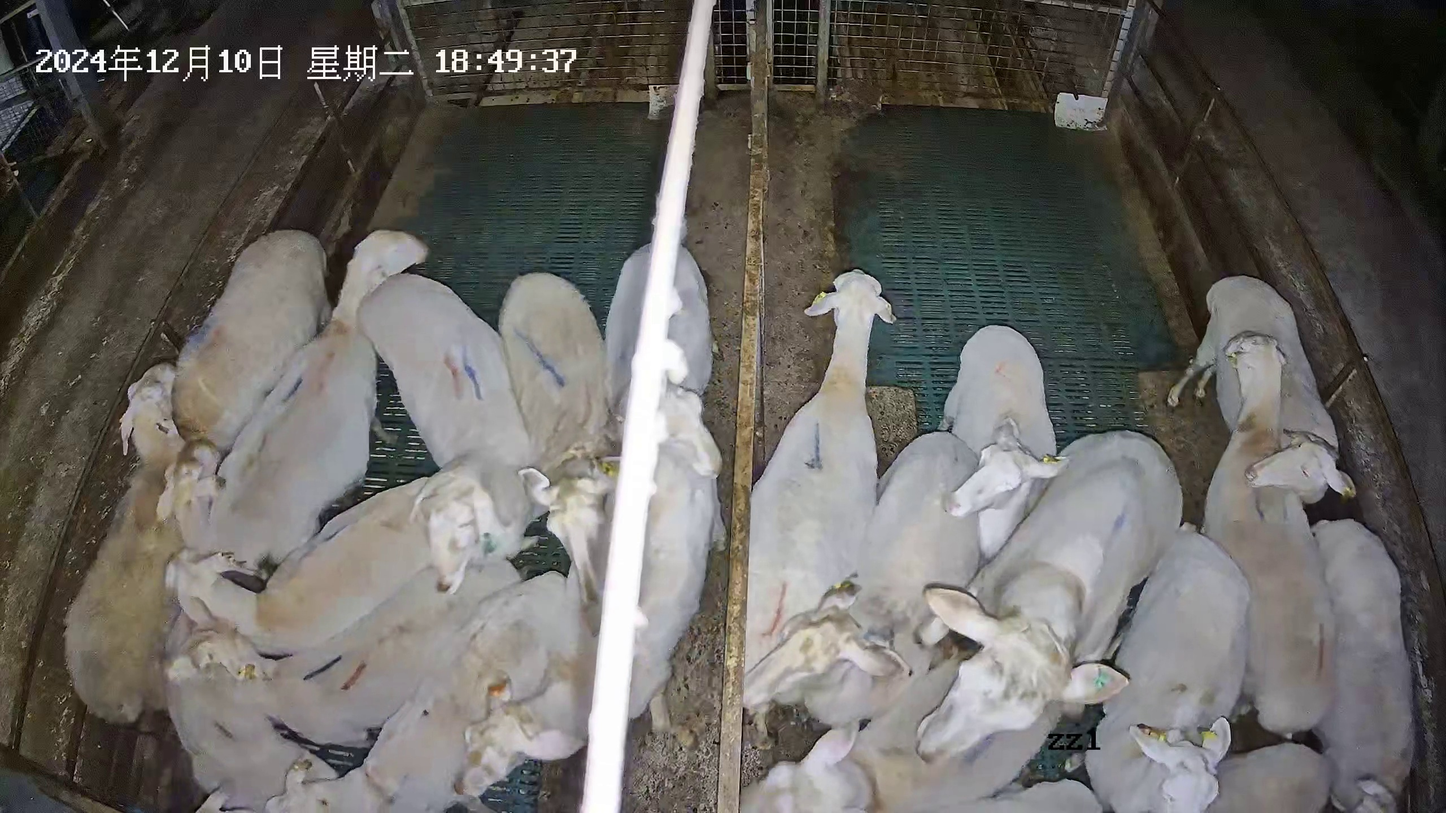Smounting: (737, 426, 1185, 813)
mounted: (739, 640, 1086, 813)
